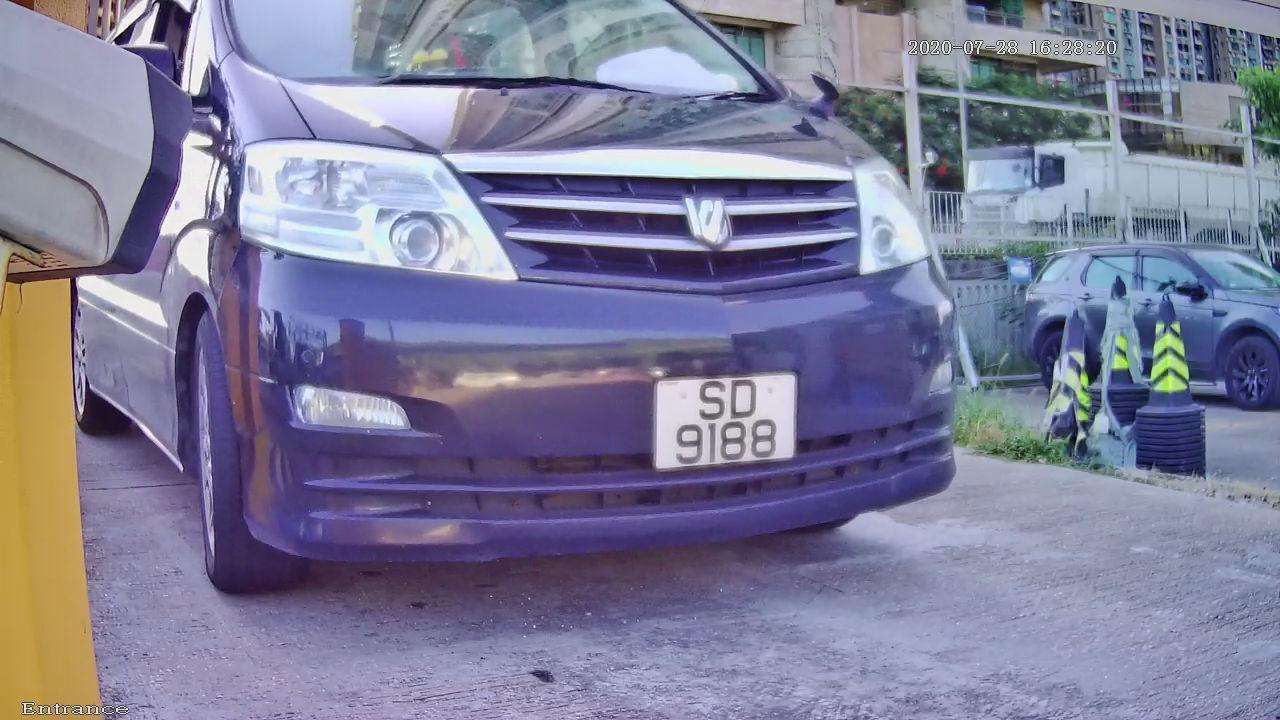privatecar: (67, 1, 987, 609)
